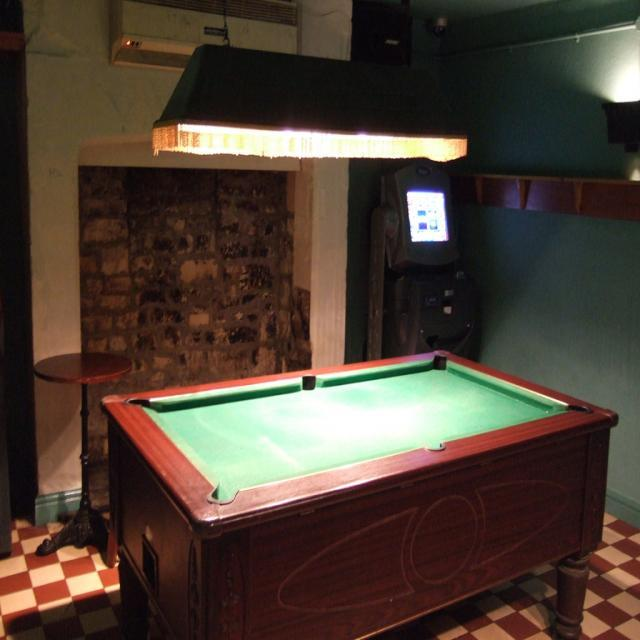Billiard table: (101, 348, 622, 512)
